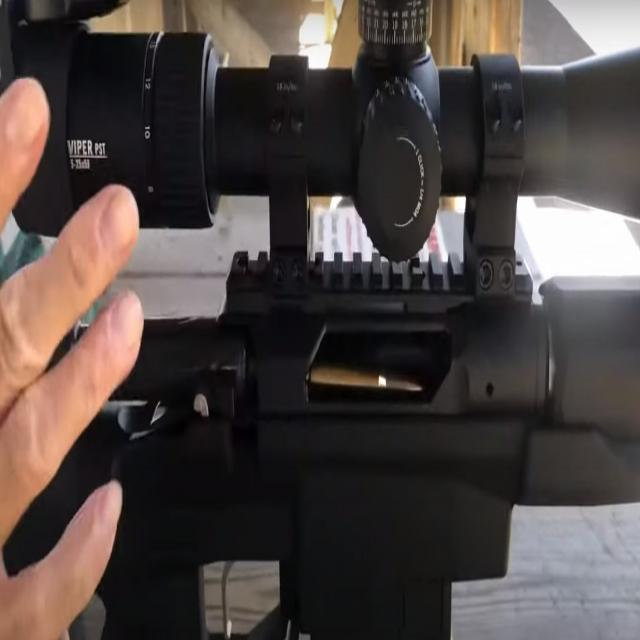rifle: (4, 7, 634, 630)
